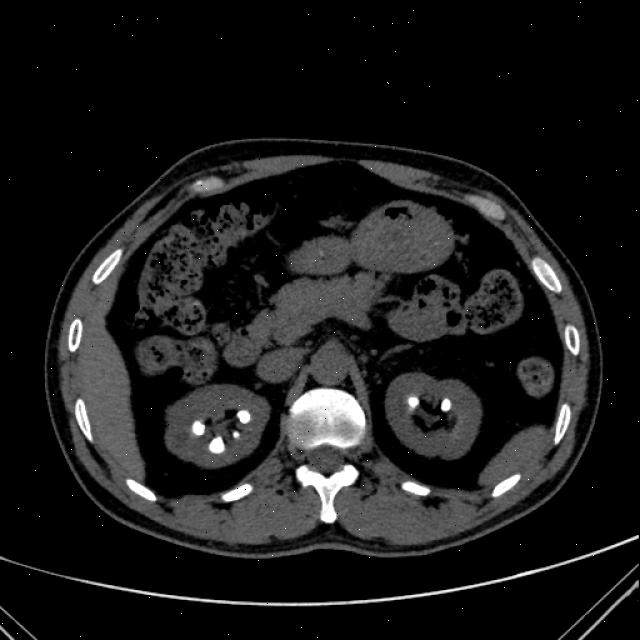kidneystone: (209, 436, 225, 453), (191, 420, 205, 436), (239, 410, 251, 423), (440, 398, 451, 412), (408, 396, 419, 408)
